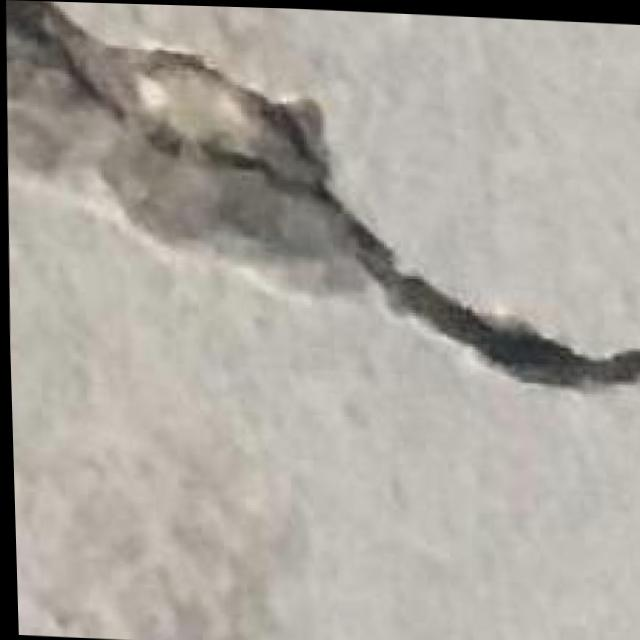Crack: (8, 22, 640, 423)
